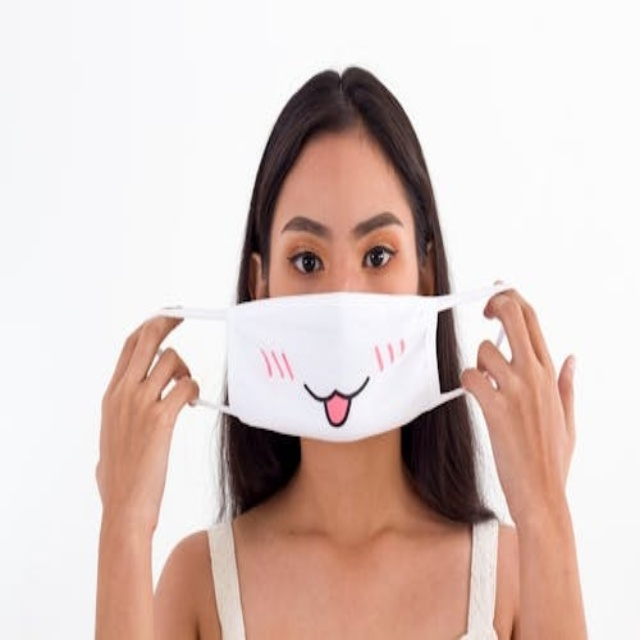Mascara: (159, 286, 513, 441)
Sin_gafas: (273, 208, 415, 281)
Sin_guantes: (461, 281, 595, 529), (86, 296, 209, 538)
